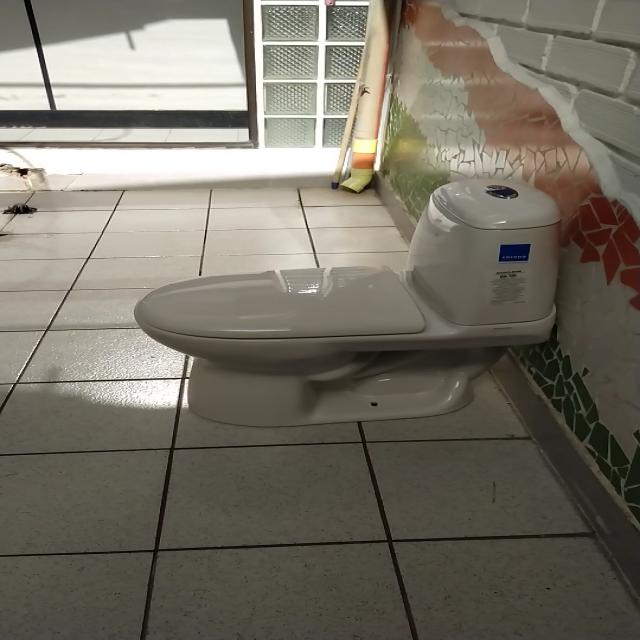toilet: (133, 177, 561, 428)
